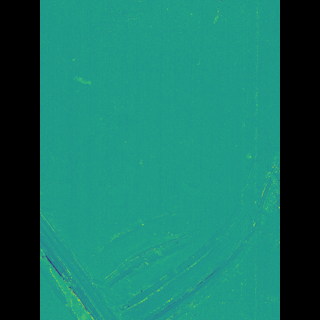Loch: (68, 137, 251, 320)
